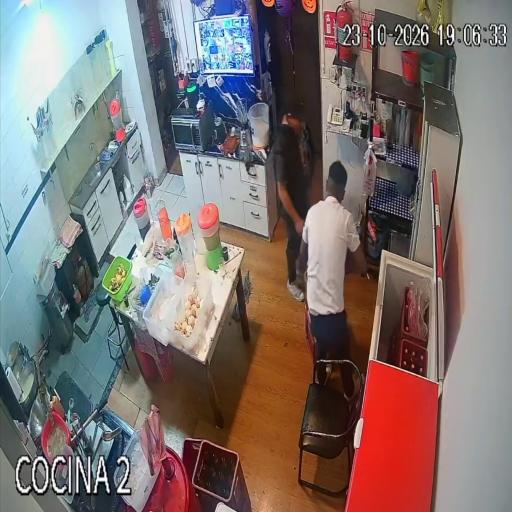Balde: (248, 102, 270, 149)
Envase Llajua: (52, 395, 64, 418)
Jarra1: (134, 197, 150, 237)
Jarra2: (175, 213, 194, 261)
Jarra3: (198, 203, 221, 270)
Jarra4: (191, 207, 206, 254)
Licuadora: (214, 117, 226, 145)
Licuadora2: (239, 101, 251, 148)
Microondas: (171, 105, 213, 152)
Persona1: (268, 110, 309, 301)
Persona3: (299, 161, 367, 359)
Taper: (102, 256, 132, 302)
Taper2: (129, 265, 163, 325)
Taper3: (143, 271, 183, 345)
Taper4: (166, 274, 214, 360)
Taper5: (114, 430, 158, 512)
